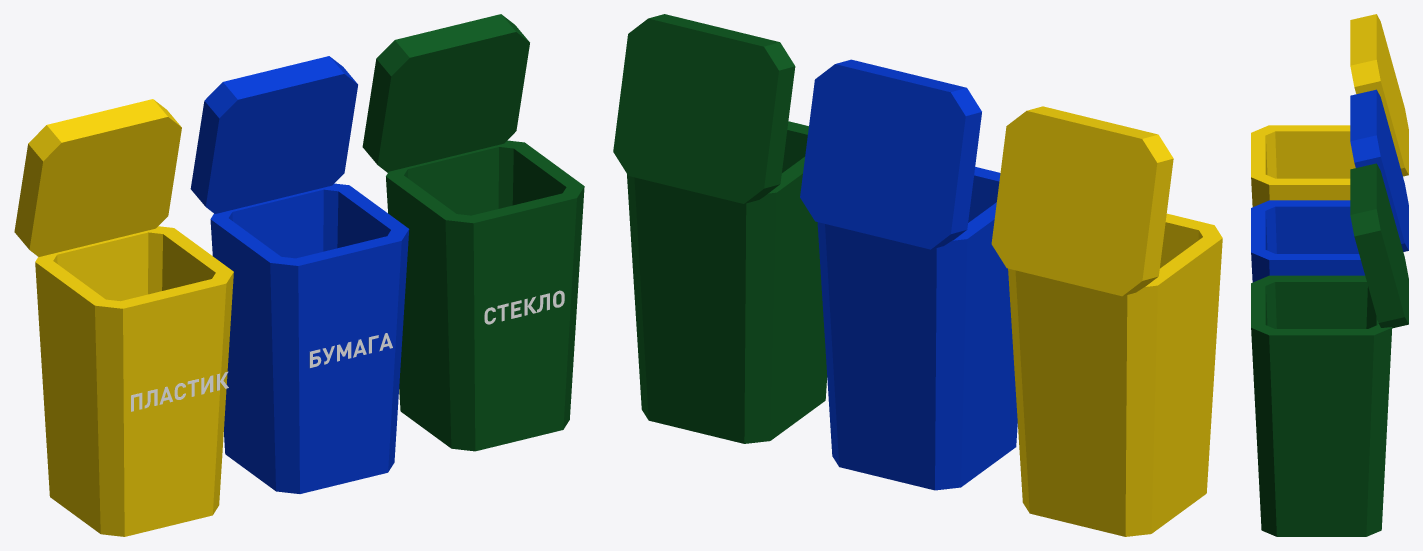
The model's file is Конт.FBX.
3 renders of one model, left to right at view 1: azimuth 30°, elevation 25°; view 2: azimuth 150°, elevation 25°; view 3: azimuth 270°, elevation 25°, orthographic. The views are drawn at different scales.
Parts seen in each view (by area): view 1: Box001, Box005, Box003, Box006, Box004, Box002, Text002, Text003, Text001; view 2: Box001, Box003, Box005, Box002, Box006, Box004; view 3: Box005, Box003, Box001, Box006, Box002, Box004.
Part boxes in pixels (x1=…): Box001: x1=35, y1=226, x2=233, y2=536; Box005: x1=386, y1=140, x2=584, y2=451; Box003: x1=210, y1=183, x2=409, y2=493; Box006: x1=362, y1=14, x2=529, y2=172; Box004: x1=190, y1=56, x2=357, y2=213; Box002: x1=14, y1=99, x2=181, y2=256; Text002: x1=131, y1=371, x2=228, y2=411; Text003: x1=309, y1=333, x2=392, y2=367; Text001: x1=484, y1=290, x2=564, y2=324; Box001: x1=1008, y1=213, x2=1222, y2=536; Box003: x1=817, y1=167, x2=1017, y2=490; Box005: x1=627, y1=121, x2=827, y2=443; Box002: x1=991, y1=106, x2=1173, y2=296; Box006: x1=613, y1=14, x2=795, y2=203; Box004: x1=800, y1=59, x2=981, y2=249; Box005: x1=1251, y1=275, x2=1392, y2=536; Box003: x1=1251, y1=200, x2=1364, y2=282; Box001: x1=1251, y1=125, x2=1355, y2=206; Box006: x1=1350, y1=163, x2=1408, y2=328; Box002: x1=1350, y1=14, x2=1408, y2=176; Box004: x1=1350, y1=89, x2=1408, y2=251.
Size of the model in its own units: 1.35 by 0.9588 by 0.425.
